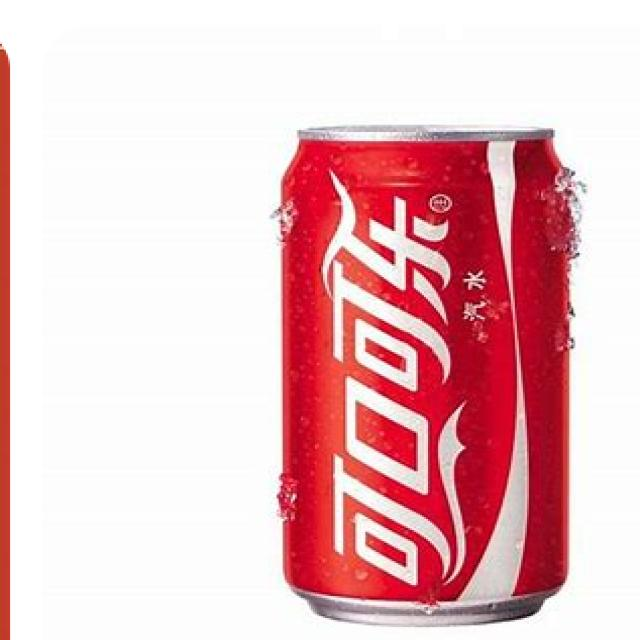coca_cola: (283, 132, 580, 630)
